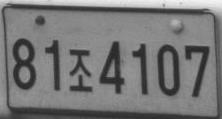0: (157, 43, 181, 96)
1: (41, 38, 67, 91), (128, 42, 154, 95)
4: (98, 40, 124, 93)
7: (184, 44, 210, 97)
8: (12, 37, 37, 89)
조: (69, 48, 92, 91)
